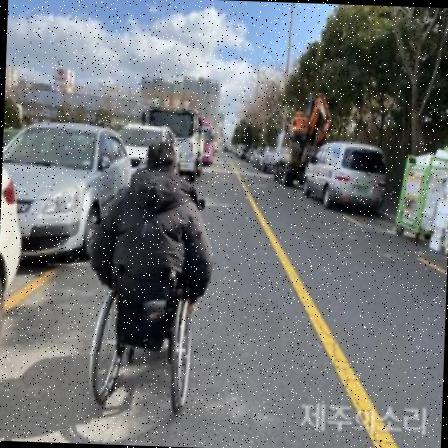wheel: (90, 146, 212, 410)
